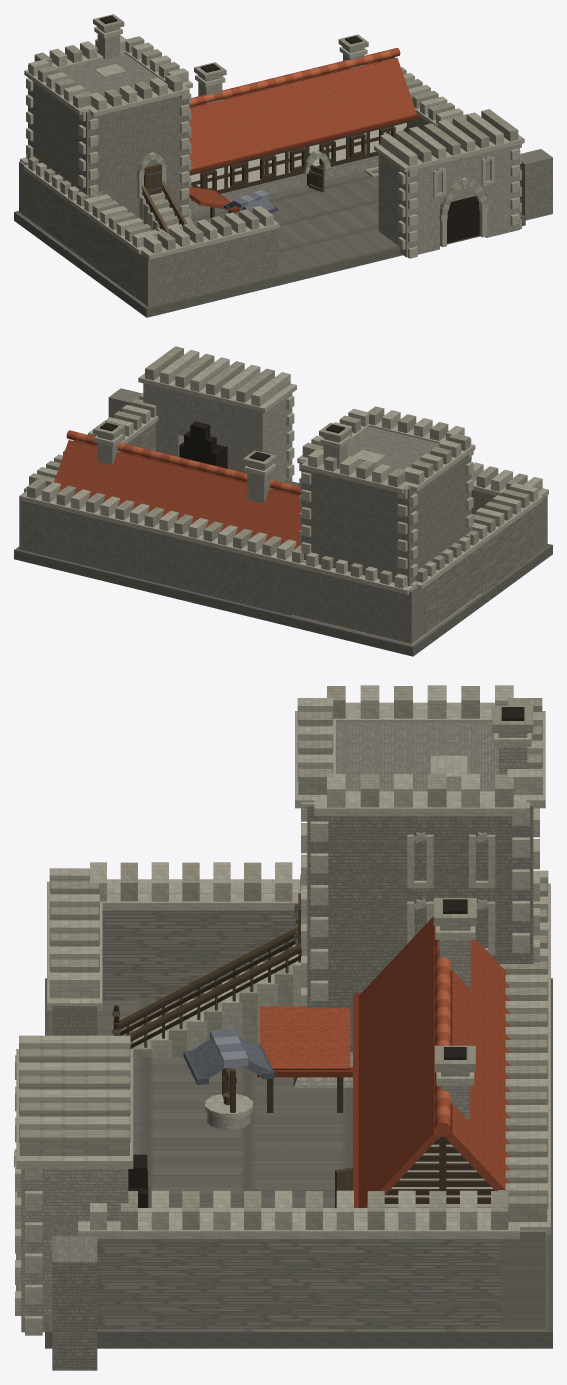
File: civic-medieval-cottages-built.glb
3 views of the same model, one above another, from view 1: azimuth 30°, elevation 25°; view 2: azimuth 150°, elevation 25°; view 3: azimuth 270°, elevation 25° (orthographic). The views are drawn at different scales.
Bounding box in the file's own units: 43.85 × 19.37 × 26.21.
52 materials, 42 textured.
